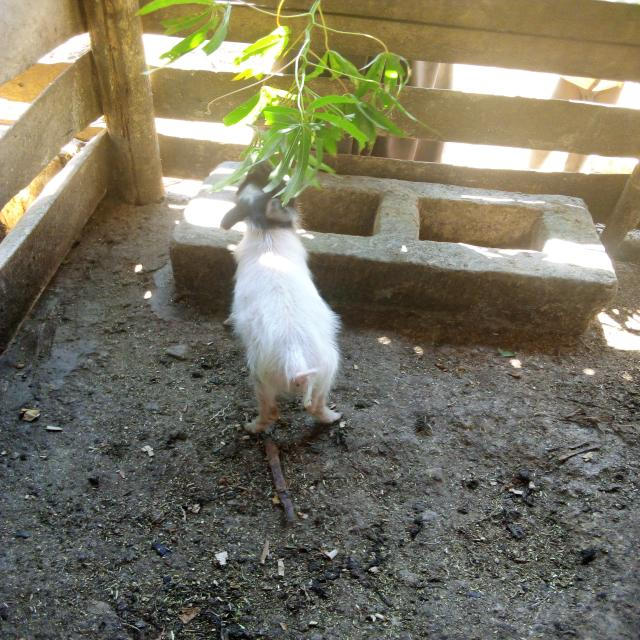pig: (170, 136, 419, 480)
